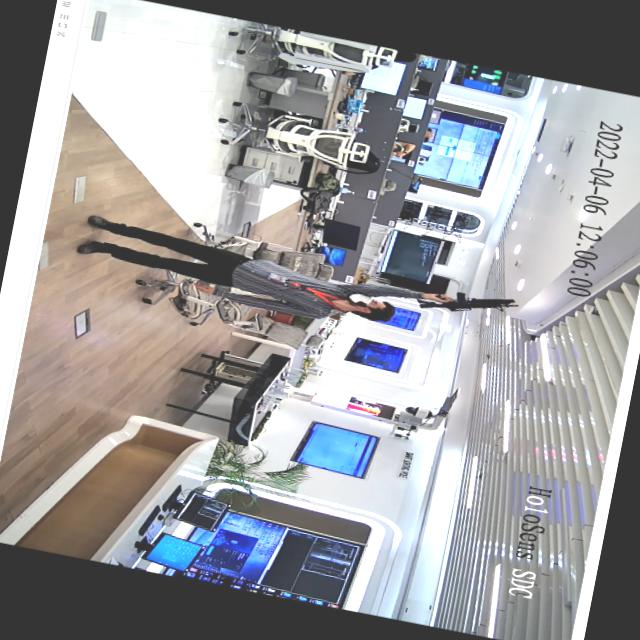long weapon: (408, 275, 526, 334)
